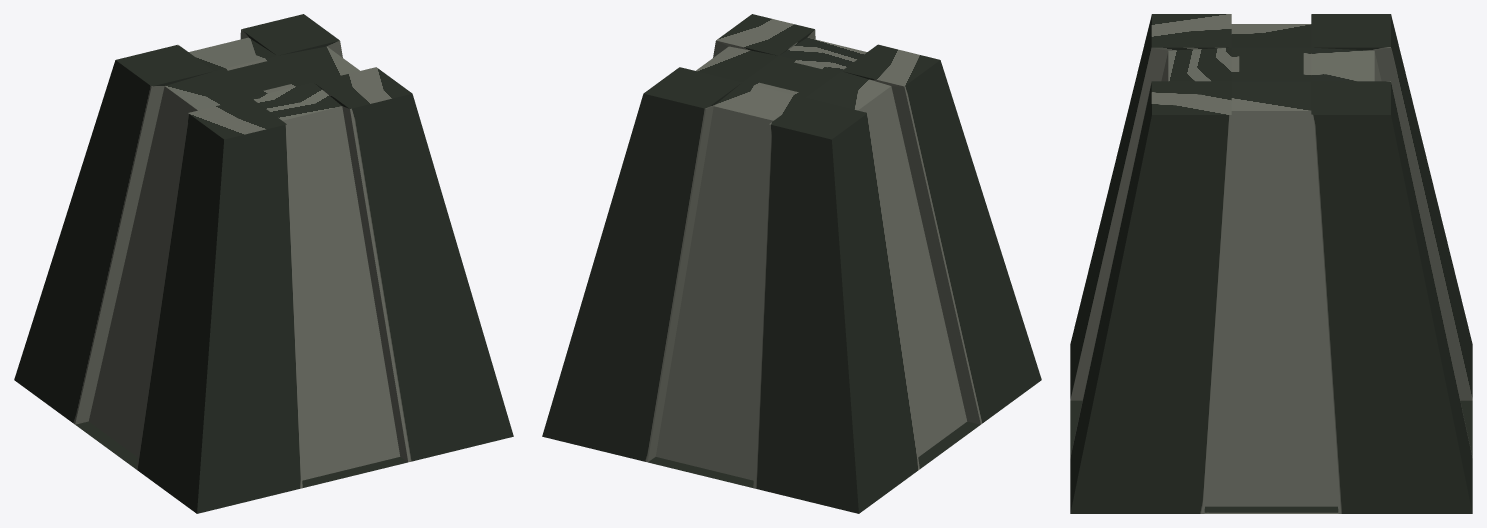
Rendered from dart_statue_base.fbx.
The picture shows the model from 3 angles, left to right: view 1: azimuth 30°, elevation 25°; view 2: azimuth 150°, elevation 25°; view 3: azimuth 270°, elevation 25°; orthographic projection. The views are drawn at different scales.
Visible parts, largest first — view 1: base; view 2: base; view 3: base.
Boxes of the visible parts, x1,y1,x2,y2 form: base: (14,14,513,513); base: (542,14,1041,513); base: (1070,14,1472,513).
Size of the model in its own units: 98.15 by 99.11 by 98.15.
1 material, 1 textured.
